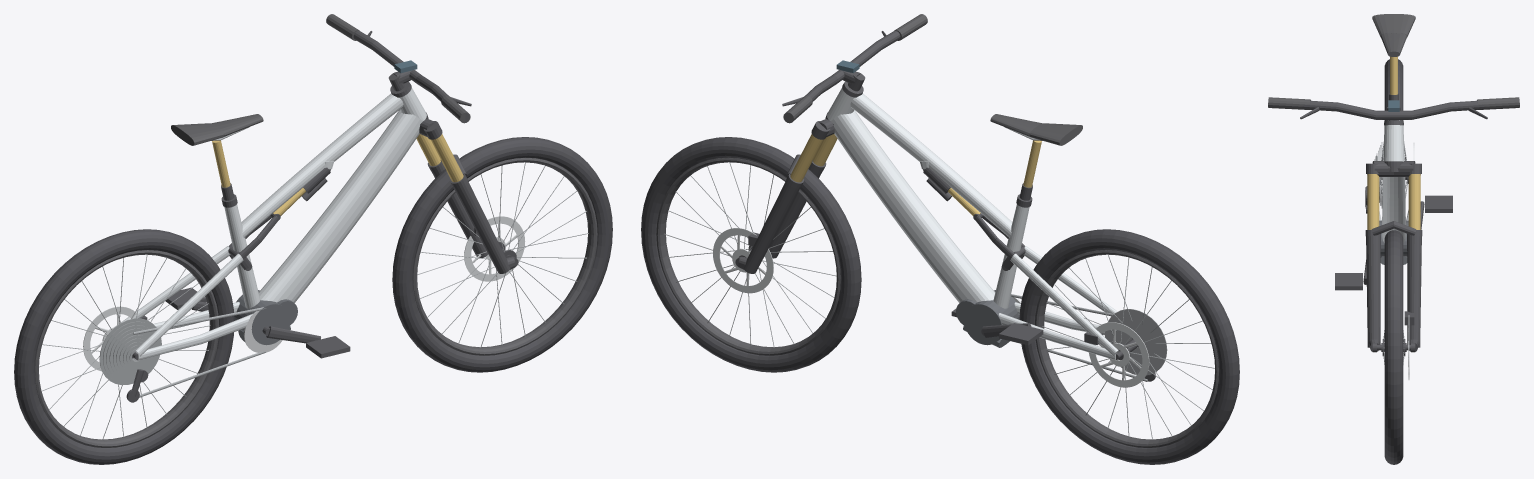
The model's file is ebike-mtb-2027-orbea-rise-lt.glb.
The picture shows the model from 3 angles, left to right: view 1: azimuth 30°, elevation 25°; view 2: azimuth 150°, elevation 25°; view 3: azimuth 270°, elevation 25°; orthographic projection. The views are drawn at different scales.
Parts seen in each view (by area): view 1: front_wheel_tire, rear_wheel_tire, frame_downtube, front_wheel_rim, rear_wheel_rim, frame_toptube, fork_lowers, drivetrain_cassette, front_wheel_spokes, rear_seatstays, drivetrain_crankset, rear_wheel_spokes (+11 smaller); view 2: front_wheel_tire, rear_wheel_tire, frame_downtube, front_wheel_rim, rear_wheel_rim, frame_toptube, fork_lowers, drivetrain_cassette, rear_seatstays, front_wheel_spokes, rear_wheel_spokes, ebike_motor_housing (+10 smaller); view 3: front_wheel_tire, fork_lowers, cockpit_riser_bar, fork_stanchions, frame_downtube, saddle_shell, drivetrain_crankset, cockpit_grips, frame_headtube, fork_crown, rear_wheel_tire, seatpost_dropper_upper (+1 smaller).
Boxes of the visible parts, left/top/right/bottom form: front_wheel_tire: left=392, top=137, right=612, bottom=372; rear_wheel_tire: left=14, top=229, right=234, bottom=464; frame_downtube: left=258, top=110, right=422, bottom=302; front_wheel_rim: left=413, top=158, right=597, bottom=355; rear_wheel_rim: left=35, top=250, right=219, bottom=447; frame_toptube: left=241, top=93, right=403, bottom=237; fork_lowers: left=427, top=154, right=518, bottom=273; drivetrain_cassette: left=99, top=318, right=161, bottom=385; front_wheel_spokes: left=417, top=162, right=588, bottom=348; rear_seatstays: left=114, top=246, right=243, bottom=356; drivetrain_crankset: left=165, top=287, right=350, bottom=358; rear_wheel_spokes: left=39, top=254, right=210, bottom=440; front_wheel_tire: left=641, top=137, right=861, bottom=372; rear_wheel_tire: left=1019, top=229, right=1239, bottom=464; frame_downtube: left=831, top=110, right=995, bottom=302; front_wheel_rim: left=656, top=158, right=840, bottom=355; rear_wheel_rim: left=1035, top=250, right=1218, bottom=447; frame_toptube: left=850, top=93, right=1012, bottom=237; fork_lowers: left=735, top=154, right=826, bottom=273; drivetrain_cassette: left=1105, top=309, right=1167, bottom=375; rear_seatstays: left=1010, top=246, right=1118, bottom=356; front_wheel_spokes: left=664, top=162, right=836, bottom=347; rear_wheel_spokes: left=1042, top=254, right=1214, bottom=439; ebike_motor_housing: left=956, top=290, right=1019, bottom=347; front_wheel_tire: left=1384, top=230, right=1403, bottom=464; fork_lowers: left=1365, top=221, right=1422, bottom=352; cockpit_riser_bar: left=1302, top=100, right=1485, bottom=119; fork_stanchions: left=1367, top=174, right=1420, bottom=229; frame_downtube: left=1382, top=151, right=1405, bottom=243; saddle_shell: left=1372, top=14, right=1415, bottom=56; drivetrain_crankset: left=1335, top=195, right=1452, bottom=290; cockpit_grips: left=1268, top=97, right=1519, bottom=109; frame_headtube: left=1383, top=125, right=1404, bottom=161; fork_crown: left=1366, top=161, right=1421, bottom=176; rear_wheel_tire: left=1384, top=59, right=1403, bottom=120; seatpost_dropper_upper: left=1390, top=56, right=1397, bottom=94.
Size of the model in its own units: 2 by 1.06 by 0.7833.
